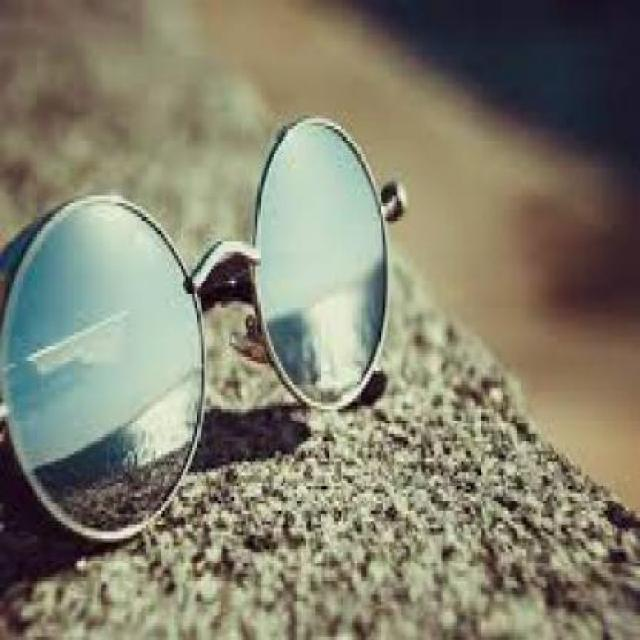gozluk: (0, 95, 420, 570)
